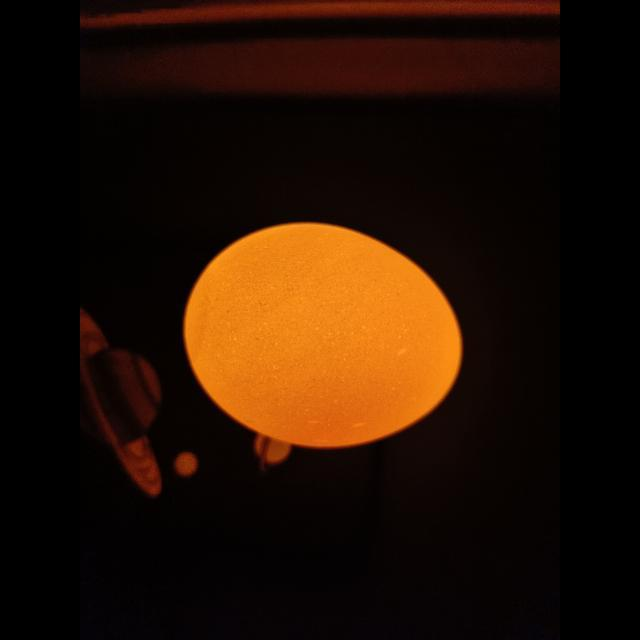AA - Premium: (184, 223, 463, 448)
